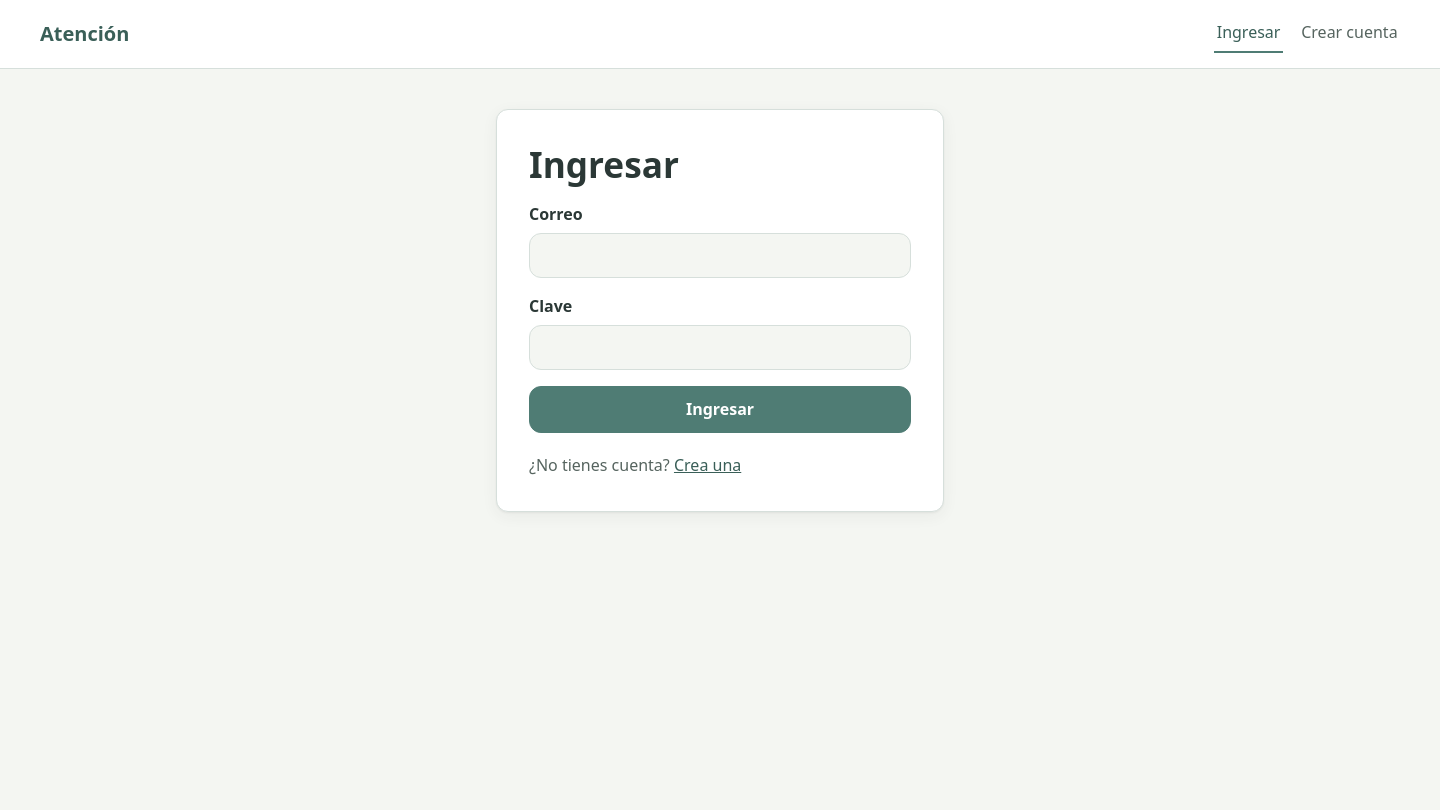
Test case: un admin que ingresa desde /login va al panel
Type "admin@test.local" into the field labelled "Correo" at (720, 255), box [529,233,911,278]
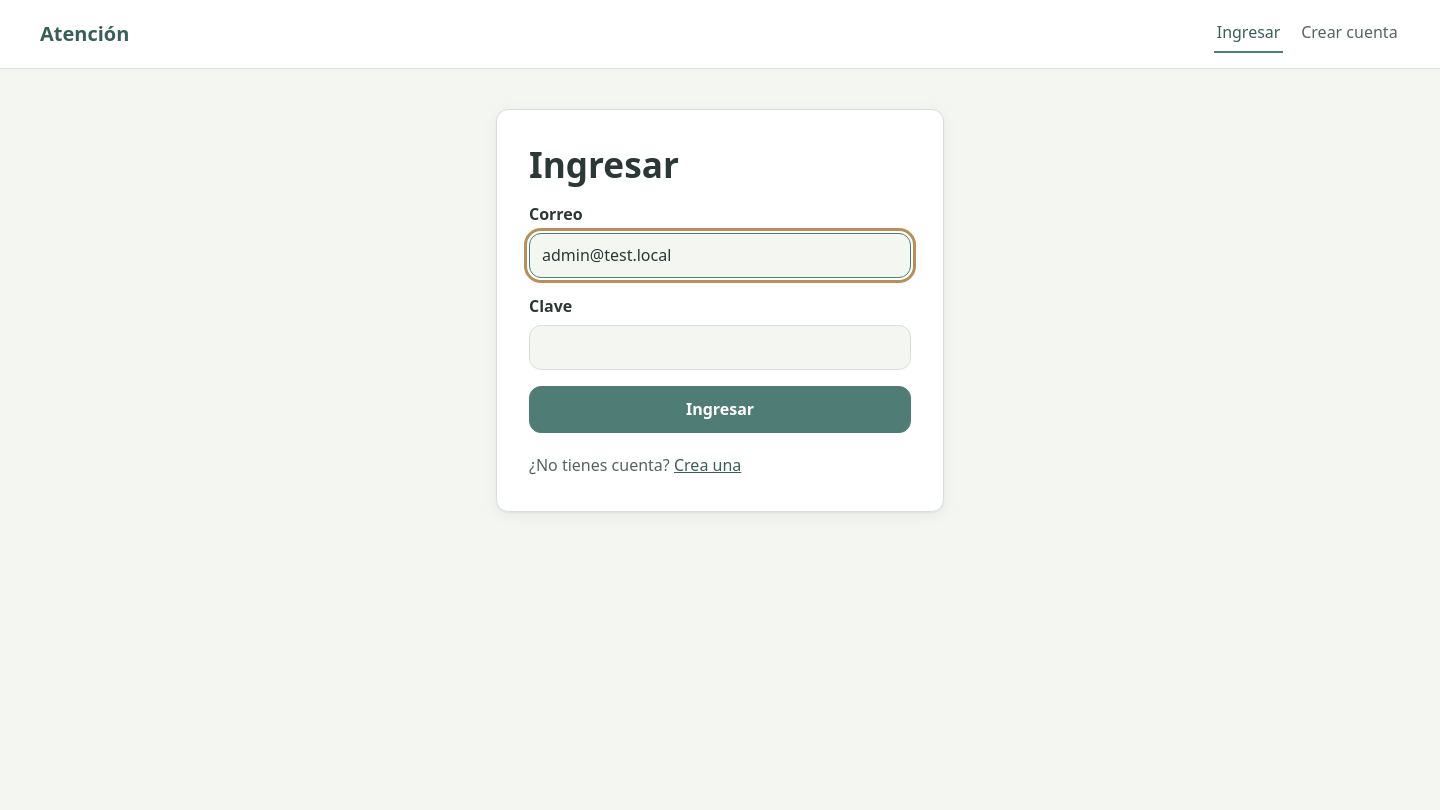
Type "Clave!" into the password field labelled "Clave" at (720, 348), box [529,325,911,370]
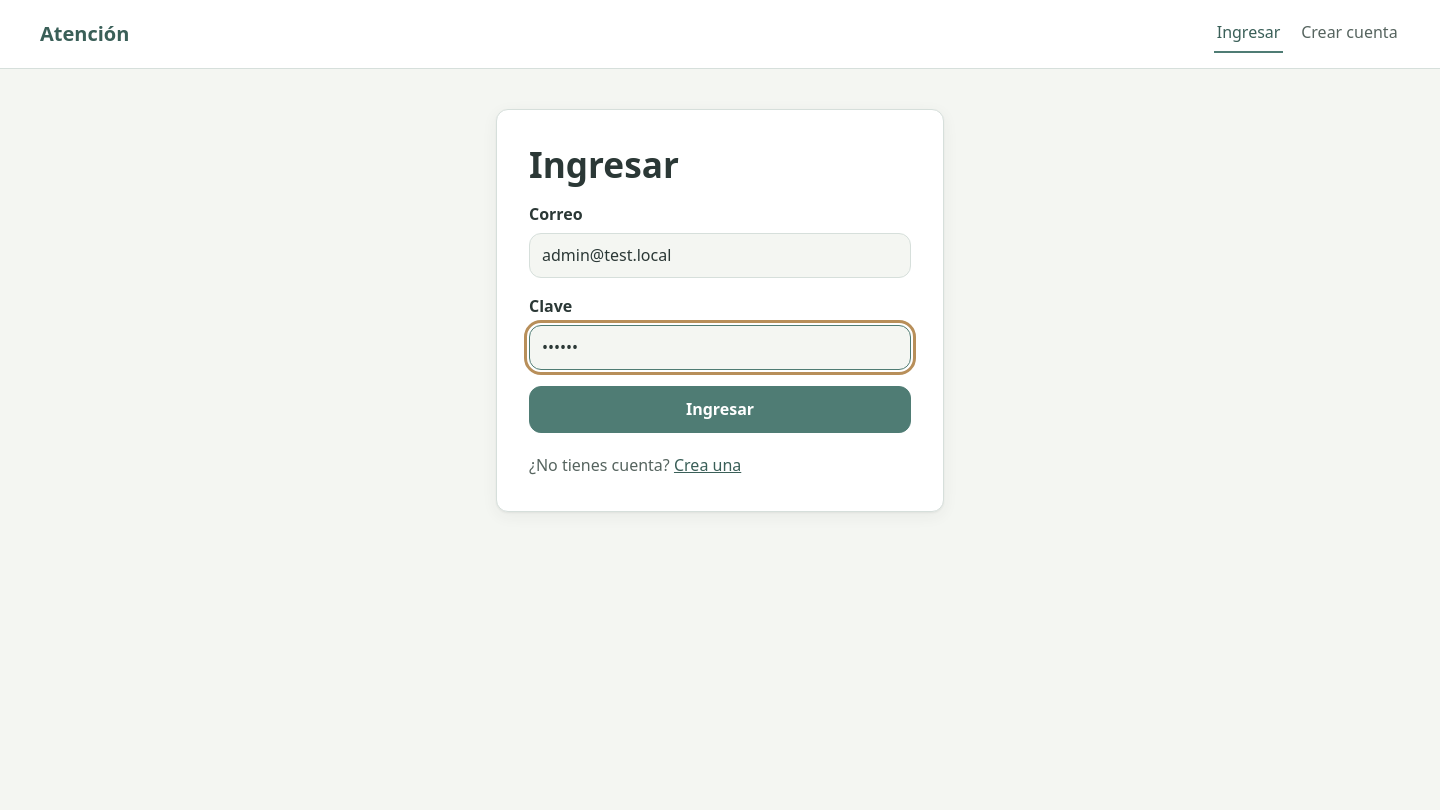
Click the button "Ingresar" at (720, 410), box [529,386,911,433]
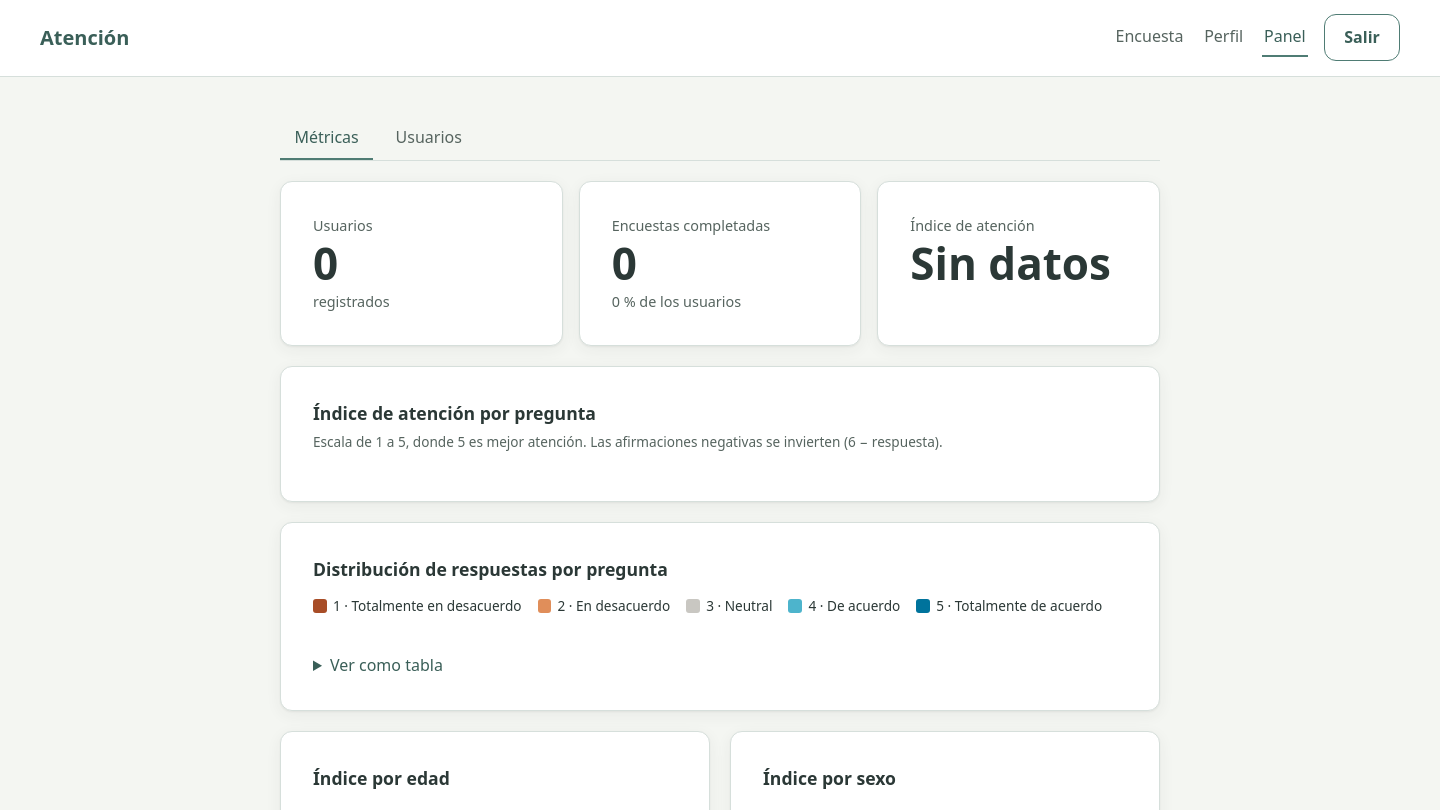
Check: the navigation bar named "Panel de administración" is shown, box [280,117,1160,161]
